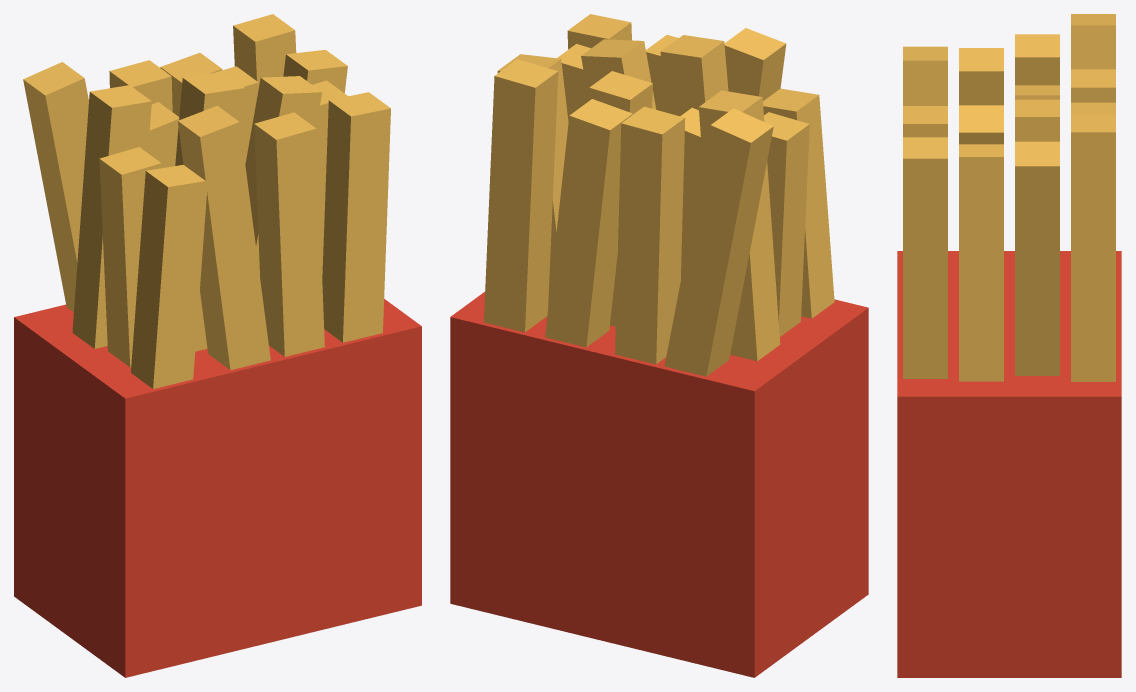
File: fries.glb
3 views of the same model, side by side, from view 1: azimuth 30°, elevation 25°; view 2: azimuth 150°, elevation 25°; view 3: azimuth 270°, elevation 25° (orthographic). The views are drawn at different scales.
Parts seen in each view (by area): view 1: Red carton, Crispy fry.003, Crispy fry.002, Crispy fry.001, Crispy fry, Crispy fry.012, Crispy fry.008, Crispy fry.004, Crispy fry.006, Crispy fry.015, Crispy fry.005, Crispy fry.013 (+5 smaller); view 2: Red carton, Crispy fry.015, Crispy fry.012, Crispy fry.013, Crispy fry.014, Crispy fry.004, Crispy fry.008, Crispy fry, Crispy fry.005, Crispy fry.001, Crispy fry.006, Crispy fry.011 (+5 smaller); view 3: Red carton, Crispy fry.015, Crispy fry.003, Crispy fry.007, Crispy fry.011, Crispy fry.001, Crispy fry.005, Crispy fry.012, Crispy fry.008, Crispy fry.010, Crispy fry.006, Crispy fry.013 (+3 smaller).
Part boxes in pixels (bbox=[...]): Red carton: bbox=[14, 299, 421, 677]; Crispy fry.003: bbox=[322, 92, 390, 342]; Crispy fry.002: bbox=[254, 112, 324, 356]; Crispy fry.001: bbox=[178, 105, 270, 370]; Crispy fry: bbox=[131, 165, 207, 388]; Crispy fry.012: bbox=[23, 62, 88, 311]; Crispy fry.008: bbox=[72, 85, 151, 348]; Crispy fry.004: bbox=[99, 147, 161, 367]; Crispy fry.006: bbox=[245, 76, 322, 275]; Crispy fry.015: bbox=[233, 14, 296, 86]; Crispy fry.005: bbox=[175, 72, 244, 351]; Crispy fry.013: bbox=[109, 60, 172, 111]; Red carton: bbox=[450, 292, 868, 677]; Crispy fry.015: bbox=[484, 59, 558, 332]; Crispy fry.012: bbox=[664, 108, 773, 376]; Crispy fry.013: bbox=[615, 106, 685, 364]; Crispy fry.014: bbox=[545, 99, 632, 347]; Crispy fry.004: bbox=[764, 112, 809, 336]; Crispy fry.008: bbox=[698, 90, 780, 361]; Crispy fry: bbox=[763, 88, 834, 318]; Crispy fry.005: bbox=[660, 35, 728, 116]; Crispy fry.001: bbox=[724, 28, 786, 100]; Crispy fry.006: bbox=[581, 39, 656, 109]; Crispy fry.011: bbox=[497, 54, 568, 308]; Red carton: bbox=[897, 251, 1121, 677]; Crispy fry.015: bbox=[1071, 114, 1115, 381]; Crispy fry.003: bbox=[903, 137, 947, 378]; Crispy fry.007: bbox=[959, 144, 1003, 381]; Crispy fry.011: bbox=[1015, 141, 1059, 375]; Crispy fry.001: bbox=[903, 46, 947, 105]; Crispy fry.005: bbox=[959, 48, 1003, 105]; Crispy fry.012: bbox=[1071, 14, 1115, 69]; Crispy fry.008: bbox=[1015, 34, 1059, 85]; Crispy fry.010: bbox=[1015, 99, 1059, 141]; Crispy fry.006: bbox=[959, 105, 1003, 144]; Crispy fry.013: bbox=[1071, 69, 1115, 102].
Bounding box in the file's own units: 0.4 × 0.689 × 0.26.
